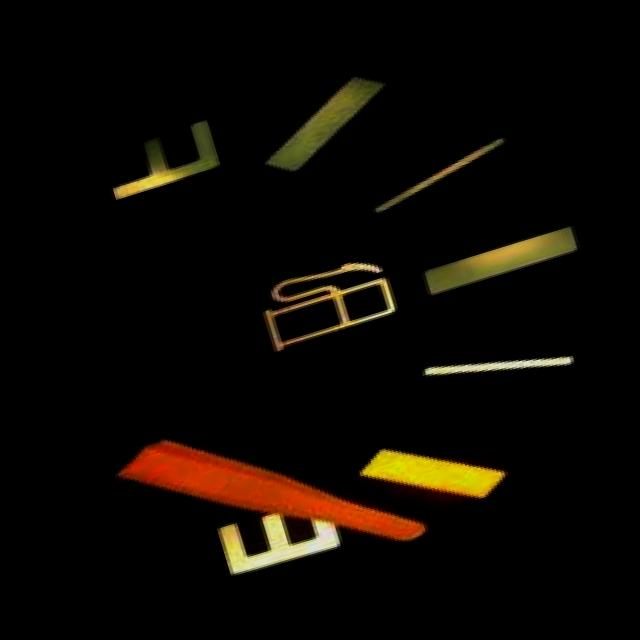kontrolka: (240, 236, 416, 368)
